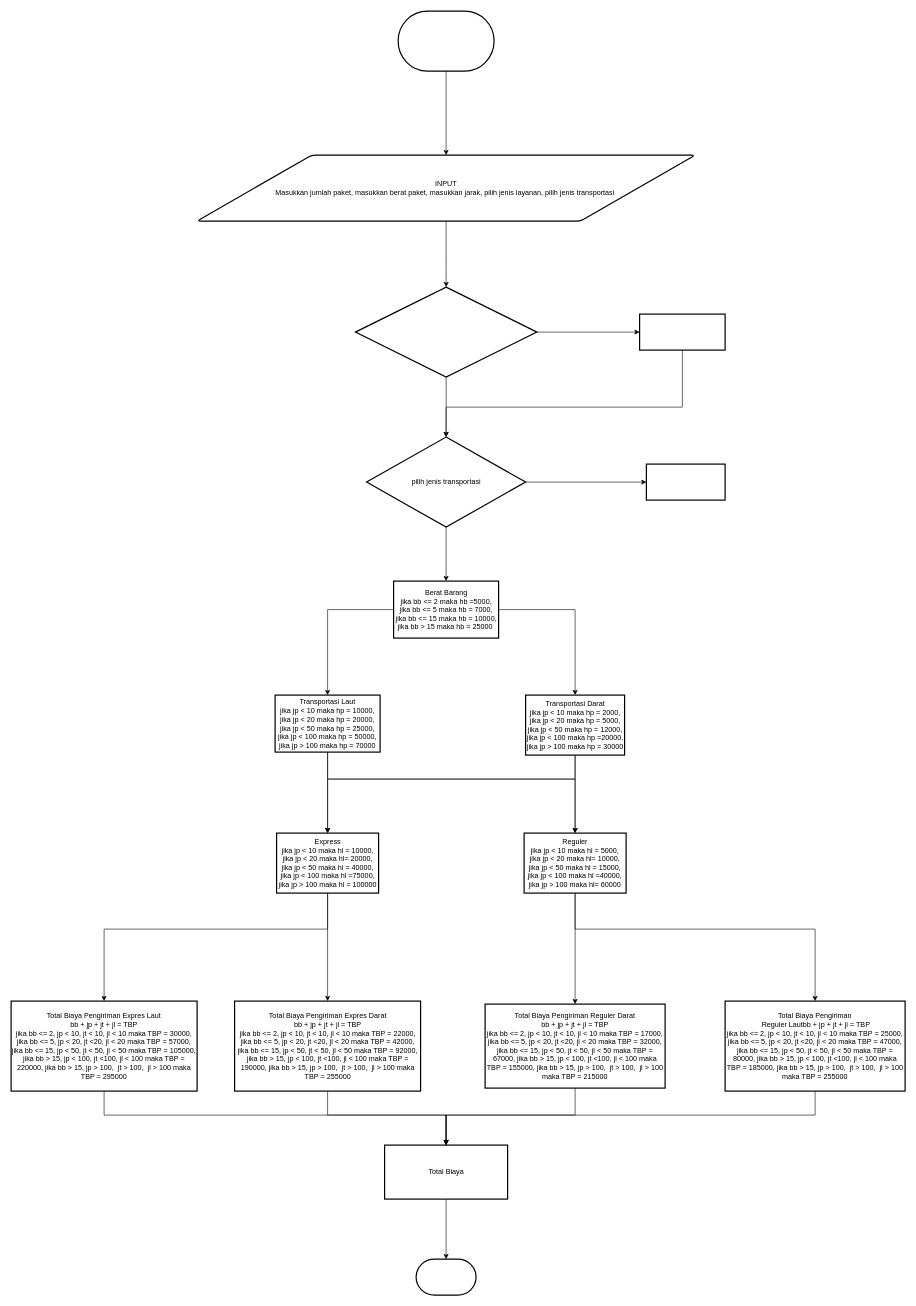
Image size: 916x1306. Some labels were removed from this diagram. The centre of each missing label's shape, as x and y in pixels:
"Darat dan Laut" goes at pixel 685 481.
"end" goes at pixel 445 1276.
"Express dan Reguller" goes at pixel 682 331.
"pilih jenis layanan" goes at pixel 445 331.
"Start" goes at pixel 445 40.
